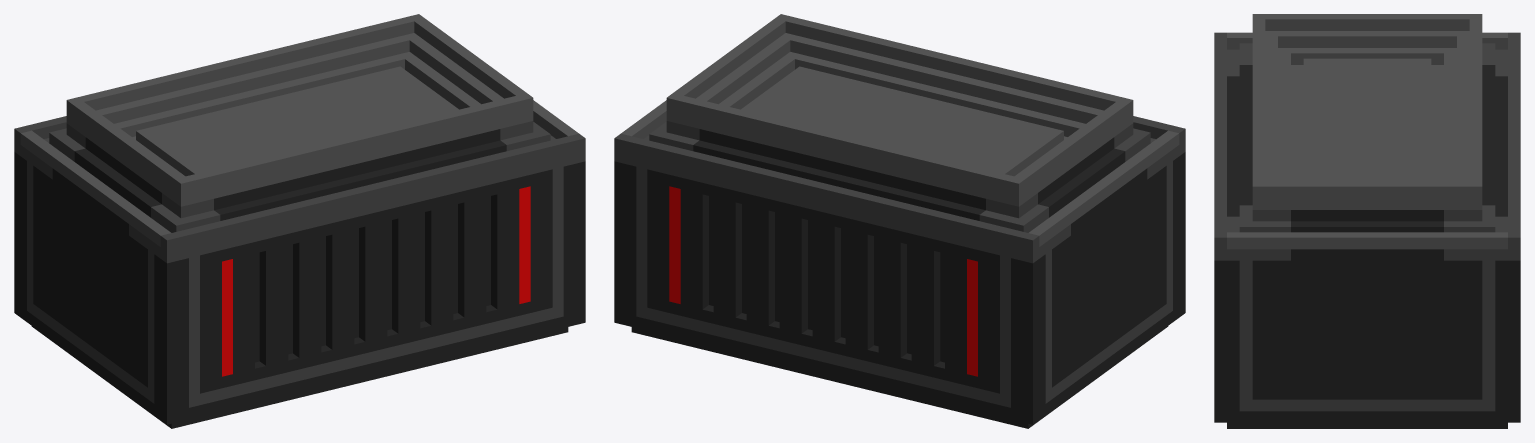
The model's file is crate.glb.
3 views of the same model, side by side, from view 1: azimuth 30°, elevation 25°; view 2: azimuth 150°, elevation 25°; view 3: azimuth 270°, elevation 25° (orthographic).
Parts seen in each view (by area): view 1: Untitled; view 2: Untitled; view 3: Untitled.
Boxes of the visible parts, left/top/right/bottom form: Untitled: left=14, top=14, right=585, bottom=428; Untitled: left=614, top=14, right=1185, bottom=428; Untitled: left=1214, top=14, right=1520, bottom=428.
Size of the model in its own units: 0.95 by 0.5 by 0.6.
Materials: 1 (1 with a texture image).
